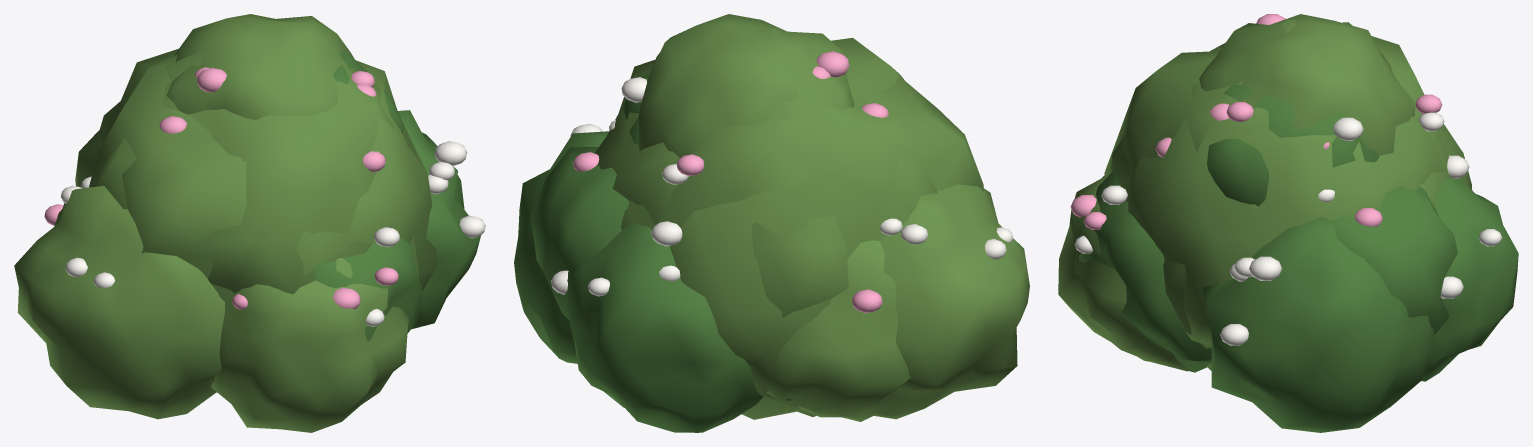
Rendered from bush.glb.
3 renders of one model, left to right at view 1: azimuth 30°, elevation 25°; view 2: azimuth 150°, elevation 25°; view 3: azimuth 270°, elevation 25°, orthographic. The views are drawn at different scales.
Visible parts, largest first — view 1: bush_b, bush_a; view 2: bush_b, bush_a; view 3: bush_b, bush_a.
Boxes of the visible parts, bbox=[...] form: bush_b: bbox=[14, 50, 485, 432]; bush_a: bbox=[44, 14, 422, 341]; bush_b: bbox=[514, 59, 1029, 432]; bush_a: bbox=[530, 14, 937, 421]; bush_b: bbox=[1058, 22, 1518, 432]; bush_a: bbox=[1070, 14, 1457, 372].
Bounding box in the file's own units: 0.7733 × 0.5571 × 0.6959.
